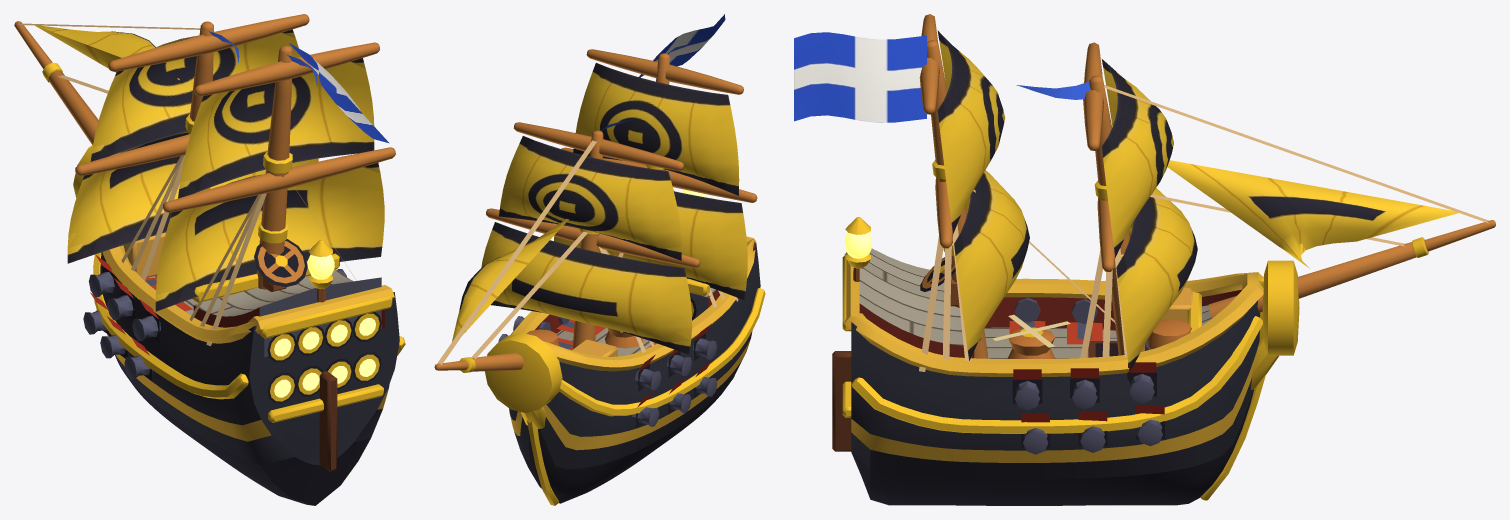
The model's file is enemy_galleon.glb.
3 renders of one model, left to right at view 1: azimuth 30°, elevation 25°; view 2: azimuth 150°, elevation 25°; view 3: azimuth 270°, elevation 25°, orthographic. The views are drawn at different scales.
Visible parts, largest first — view 1: Hull, Rigging, Sail1_0, Sail1_1, Sail0_1, Sail0_0, Guns0, Jib, Flag; view 2: Hull, Sail0_0, Sail0_1, Rigging, Sail1_1, Sail1_0, Guns0, Jib, Flag; view 3: Hull, Rigging, Jib, Flag, Sail0_0, Sail1_0, Sail0_1, Sail1_1, Guns0.
Part boxes in pixels (x1,y1,x2,y2): Hull: [73, 145, 405, 505]; Rigging: [14, 14, 395, 346]; Sail1_0: [155, 163, 384, 311]; Sail1_1: [178, 58, 374, 198]; Sail0_1: [90, 29, 300, 161]; Sail0_0: [67, 131, 318, 263]; Guns0: [83, 269, 346, 379]; Jib: [35, 25, 179, 80]; Flag: [289, 43, 389, 143]; Hull: [485, 189, 765, 505]; Sail0_0: [481, 222, 692, 354]; Sail0_1: [499, 136, 681, 260]; Rigging: [434, 41, 757, 372]; Sail1_1: [573, 63, 739, 195]; Sail1_0: [554, 191, 747, 300]; Guns0: [498, 316, 717, 426]; Jib: [452, 218, 568, 341]; Flag: [639, 14, 725, 77]; Hull: [832, 217, 1299, 505]; Rigging: [919, 14, 1495, 371]; Jib: [1167, 160, 1458, 268]; Flag: [794, 32, 926, 122]; Sail0_0: [1116, 188, 1197, 372]; Sail1_0: [954, 170, 1029, 360]; Sail0_1: [1101, 59, 1173, 257]; Sail1_1: [937, 30, 1005, 234]; Guns0: [1009, 297, 1162, 454].
Size of the model in its own units: 1.5 by 2.55 by 3.45.
Materials: 9 (4 with a texture image).
